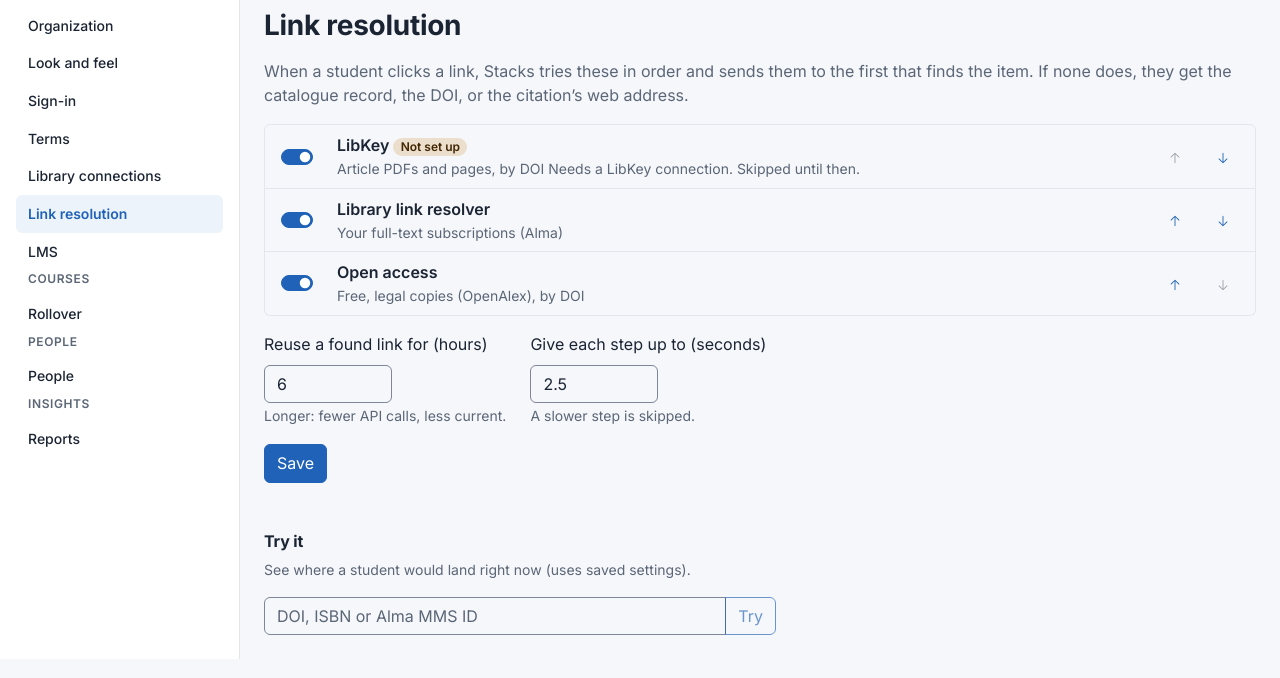
it: Administration › reorders and switches resolver steps, and tries an identifier
Expected: the text "Not set up" is shown, top-left (394, 138), bottom-right (467, 156)
Click the button named "Move Open access up" at [1175, 283], box top-left (1159, 268), bottom-right (1191, 299)
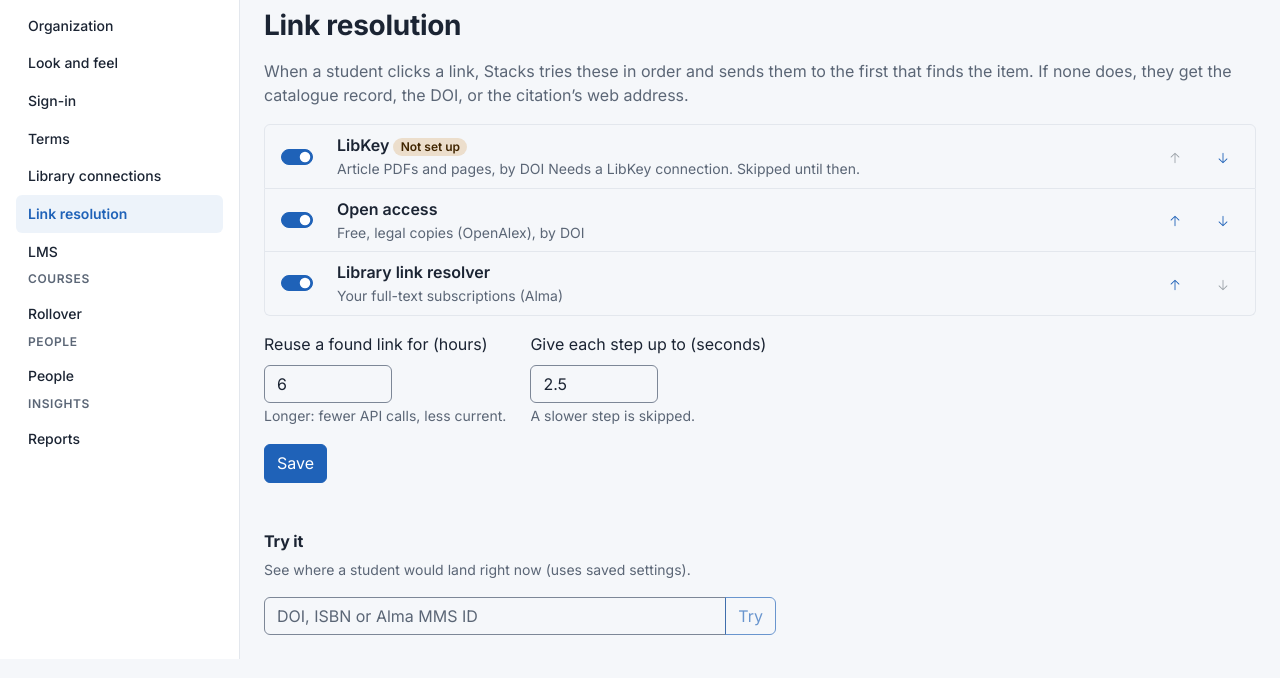
Click the checkbox named "Use LibKey" at [297, 156], box top-left (281, 148), bottom-right (313, 164)
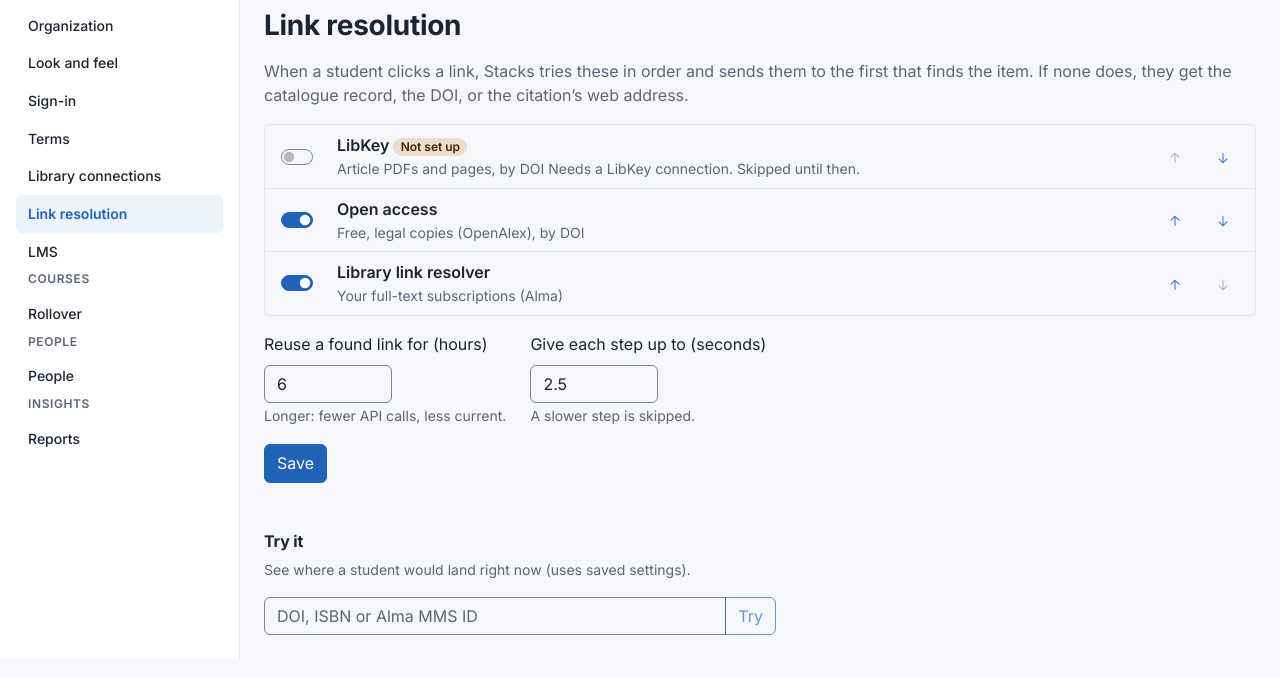
Click the button "Save" at [296, 464], box top-left (264, 444), bottom-right (327, 483)
(page scrolled)
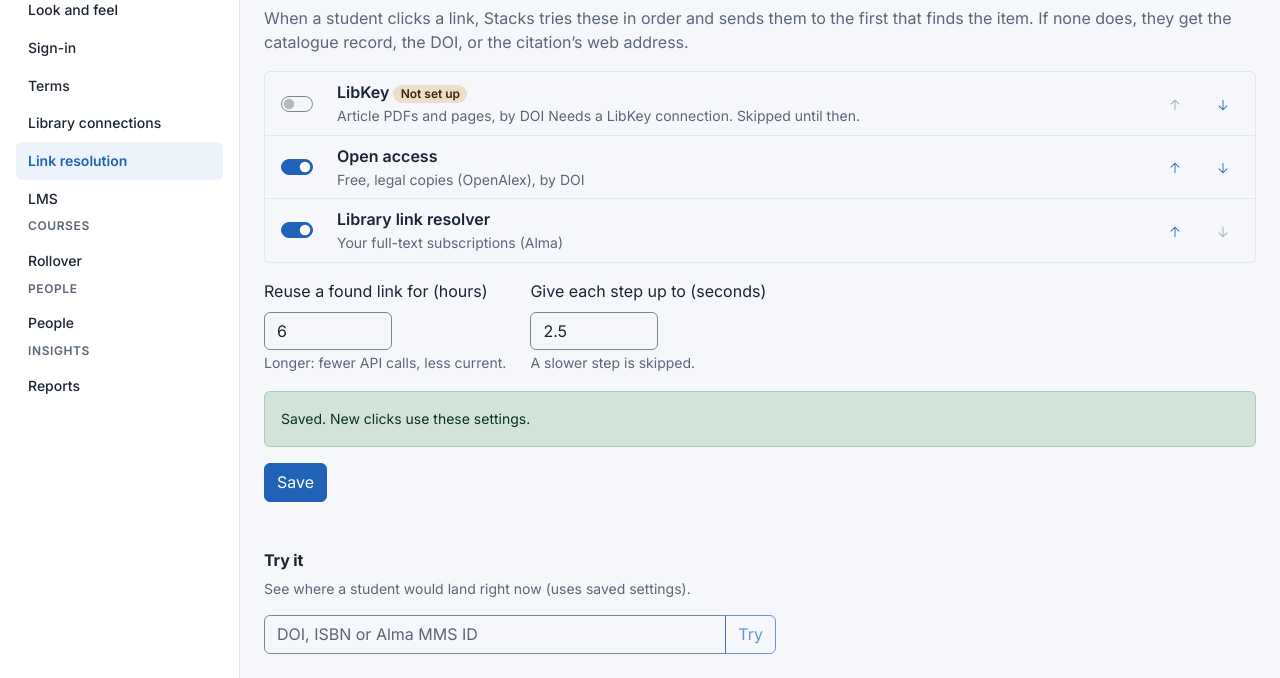
Type "10.1016/x" into the field named "DOI, ISBN or MMS ID to try" at [495, 635], box top-left (264, 615), bottom-right (726, 654)
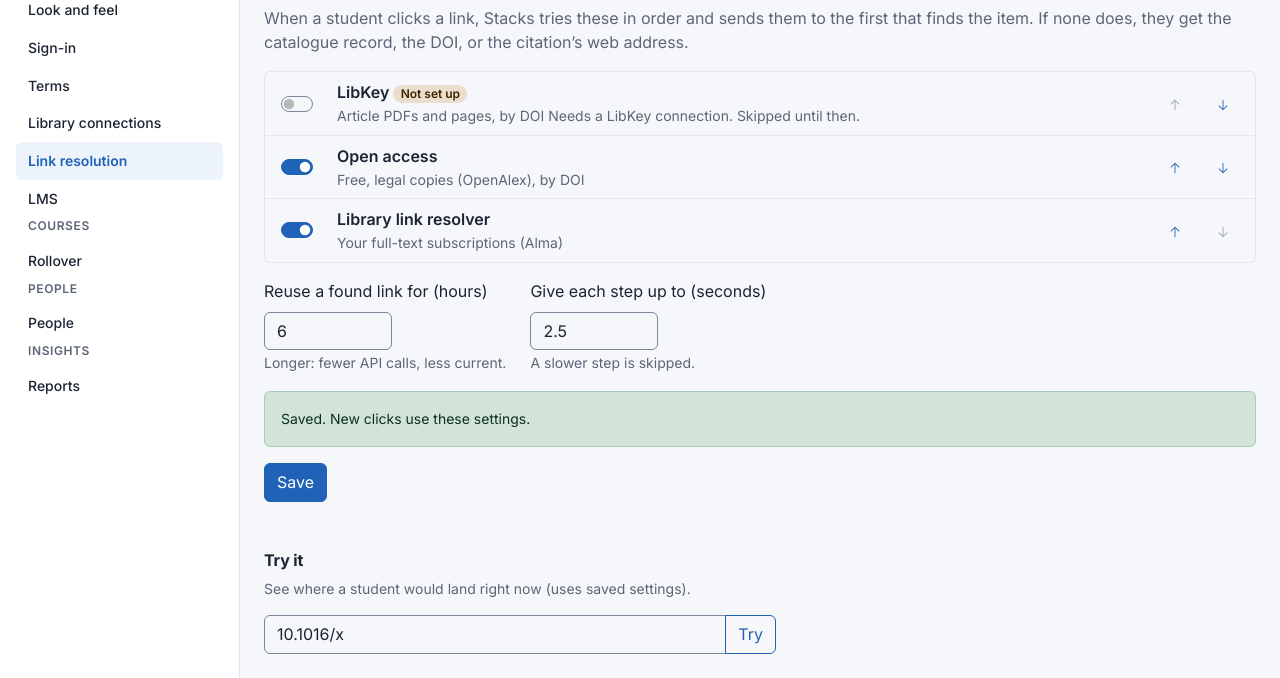
Click the button "Try" at [751, 635], box top-left (725, 615), bottom-right (776, 654)
(page scrolled)
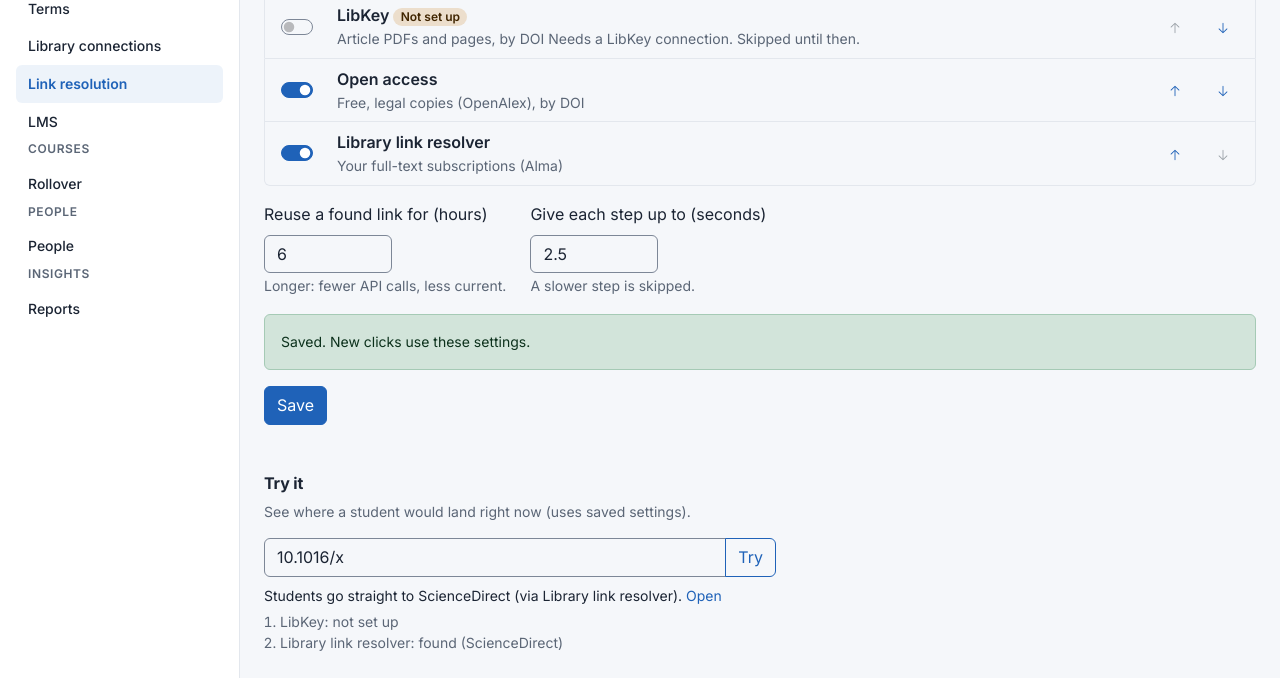
Result: the text "Students go straight to ScienceDirect" is shown at top-left (264, 587), bottom-right (682, 604)
